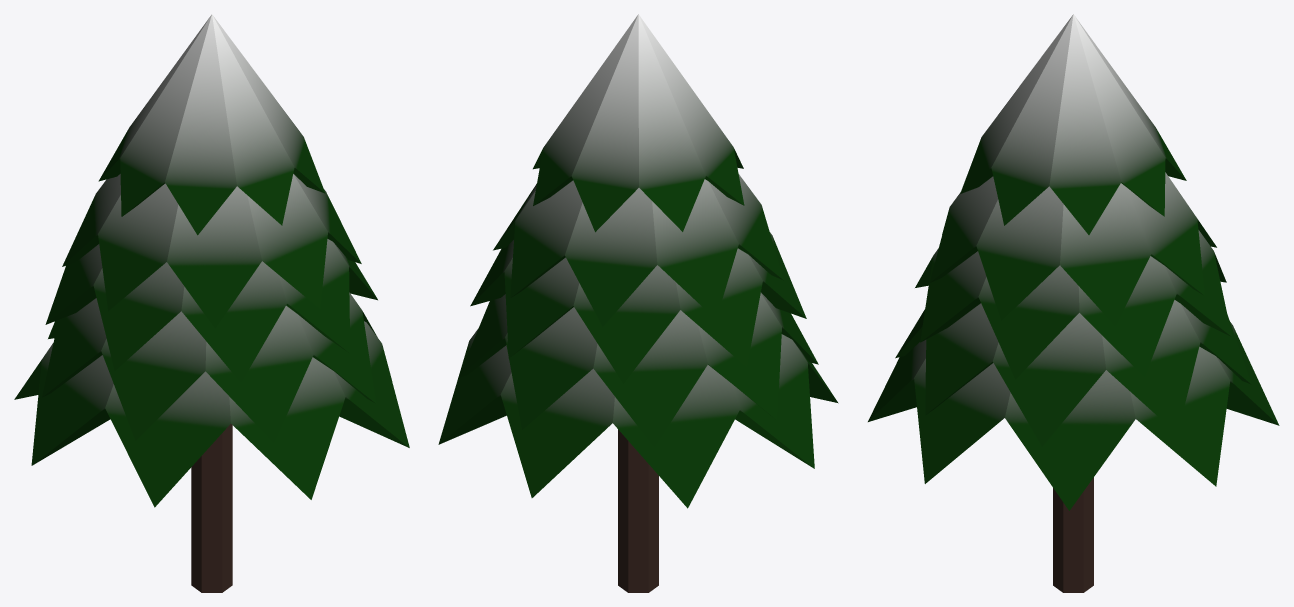
Rendered from Tree2.glb.
3 renders of one model, left to right at view 1: azimuth 30°, elevation 25°; view 2: azimuth 150°, elevation 25°; view 3: azimuth 270°, elevation 25°, orthographic.
Visible parts, largest first — view 1: Leaves2.001, Leaves2.005, Leaves2.002, Leaves2.004, Leaves2.003, Wood2; view 2: Leaves2.001, Leaves2.005, Leaves2.002, Leaves2.004, Leaves2.003, Wood2; view 3: Leaves2.001, Leaves2.005, Leaves2.002, Leaves2.004, Leaves2.003, Wood2.
Part boxes in pixels (box(x1,y1,x2,y2)): Leaves2.001: box(98, 14, 325, 235); Leaves2.005: box(14, 321, 409, 507); Leaves2.002: box(62, 174, 361, 328); Leaves2.004: box(42, 292, 376, 442); Leaves2.003: box(45, 239, 377, 382); Wood2: box(191, 424, 232, 592); Leaves2.001: box(533, 14, 744, 232); Leaves2.005: box(438, 328, 838, 508); Leaves2.002: box(493, 174, 783, 326); Leaves2.004: box(458, 292, 818, 447); Leaves2.003: box(470, 232, 806, 383); Wood2: box(618, 429, 658, 592); Leaves2.001: box(960, 14, 1186, 234); Leaves2.005: box(868, 322, 1279, 510); Leaves2.002: box(929, 172, 1216, 325); Leaves2.004: box(895, 300, 1251, 446); Leaves2.003: box(915, 230, 1231, 379); Wood2: box(1053, 477, 1093, 592).
Bounding box in the file's own units: 17.95 × 27.47 × 17.95.
Materials: 2 (2 with a texture image).
